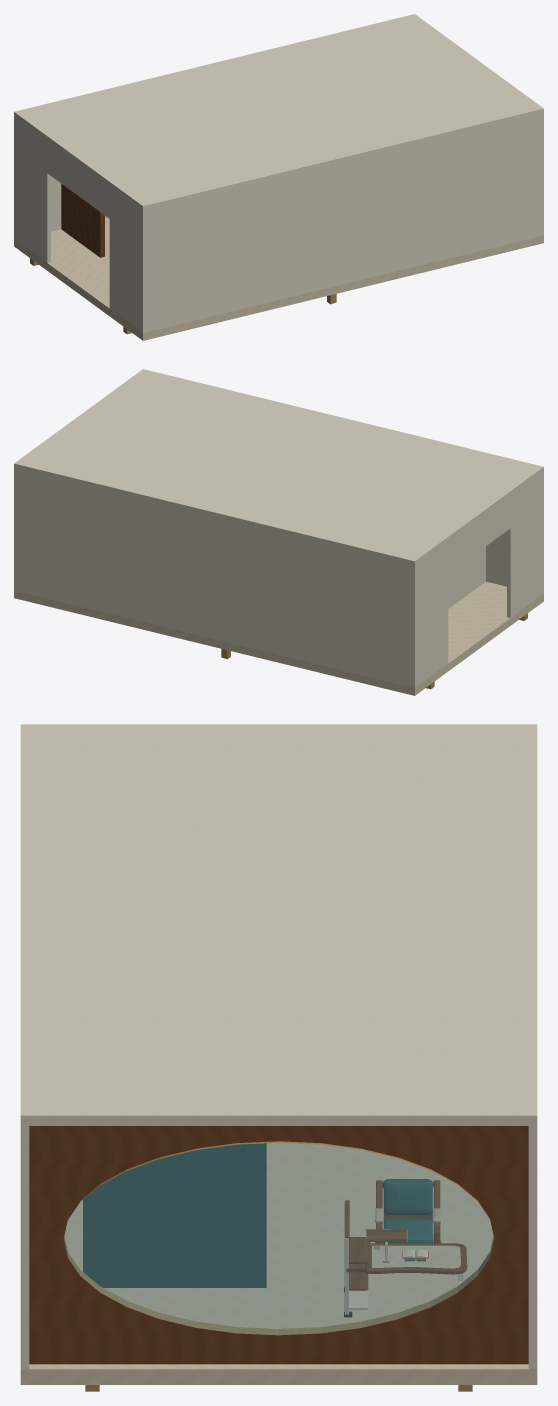
The model's file is StarAtlasSpecialty_515.glb.
The picture shows the model from 3 angles, top to bottom: view 1: azimuth 30°, elevation 25°; view 2: azimuth 150°, elevation 25°; view 3: azimuth 270°, elevation 25°; orthographic projection. The views are drawn at different scales.
Parts seen in each view (by area): view 1: SA515_Ceiling, SA515_SouthSide, SA515_RoomFloor, SA515_EntryShoulderNorth, SA515_EntryShoulderSouth, SA515_EntryHeader, SA515_EntryPrivacyDogleg, SA515_NorthSide; view 2: SA515_Ceiling, SA515_NorthSide, SA515_RoomFloor, SA515_EntryShoulderSouth, SA515_EntryShoulderNorth, SA515_EntryHeader, SA515_WashEntrySide, SA515_SouthSide; view 3: SA515_Ceiling, SA515_OvalAtriumGlass, SA515_OvalWindowReveal, SA515_RoomFloor, SA515_Cocoon01_RearLiner, SA515_OvalDepthReturn, SA515_NorthSide, SA515_SouthSide, SA515_DayReadingChair__DAY_CHAIR_single_reclined_back_cushio, SA515_LibraryStudyEdge__SINGLE_inset_stone_writing_surface, SA515_LibraryStudyEdge__SINGLE_carved_walnut_writing_edge, SA515_DayReadingChair__DAY_CHAIR_single_crowned_seat.
Boxes of the visible parts, bbox=[...] form: SA515_Ceiling: bbox=[14, 14, 543, 211]; SA515_SouthSide: bbox=[141, 114, 543, 332]; SA515_RoomFloor: bbox=[14, 218, 543, 340]; SA515_EntryShoulderNorth: bbox=[16, 119, 50, 262]; SA515_EntryShoulderSouth: bbox=[109, 187, 140, 331]; SA515_EntryHeader: bbox=[46, 141, 110, 219]; SA515_EntryPrivacyDogleg: bbox=[61, 184, 104, 257]; SA515_NorthSide: bbox=[14, 117, 107, 239]; SA515_Ceiling: bbox=[14, 369, 543, 566]; SA515_NorthSide: bbox=[14, 469, 416, 687]; SA515_RoomFloor: bbox=[14, 581, 543, 695]; SA515_EntryShoulderSouth: bbox=[507, 474, 541, 617]; SA515_EntryShoulderNorth: bbox=[417, 543, 448, 686]; SA515_EntryHeader: bbox=[447, 496, 511, 574]; SA515_WashEntrySide: bbox=[448, 546, 485, 608]; SA515_SouthSide: bbox=[486, 472, 543, 594]; SA515_Ceiling: bbox=[20, 724, 537, 1125]; SA515_OvalAtriumGlass: bbox=[64, 1143, 493, 1334]; SA515_OvalWindowReveal: bbox=[29, 1126, 528, 1364]; SA515_RoomFloor: bbox=[20, 1143, 537, 1384]; SA515_Cocoon01_RearLiner: bbox=[87, 1143, 262, 1287]; SA515_OvalDepthReturn: bbox=[63, 1141, 494, 1335]; SA515_NorthSide: bbox=[528, 1126, 537, 1369]; SA515_SouthSide: bbox=[20, 1126, 29, 1369]; SA515_DayReadingChair__DAY_CHAIR_single_reclined_back_cushio: bbox=[382, 1179, 433, 1214]; SA515_LibraryStudyEdge__SINGLE_inset_stone_writing_surface: bbox=[371, 1245, 460, 1268]; SA515_LibraryStudyEdge__SINGLE_carved_walnut_writing_edge: bbox=[366, 1243, 467, 1274]; SA515_DayReadingChair__DAY_CHAIR_single_crowned_seat: bbox=[383, 1219, 433, 1243].
Size of what is drawn, in the model's own units: 12.9 by 4.91 by 7.2.
Materials: 58 (43 with a texture image).
